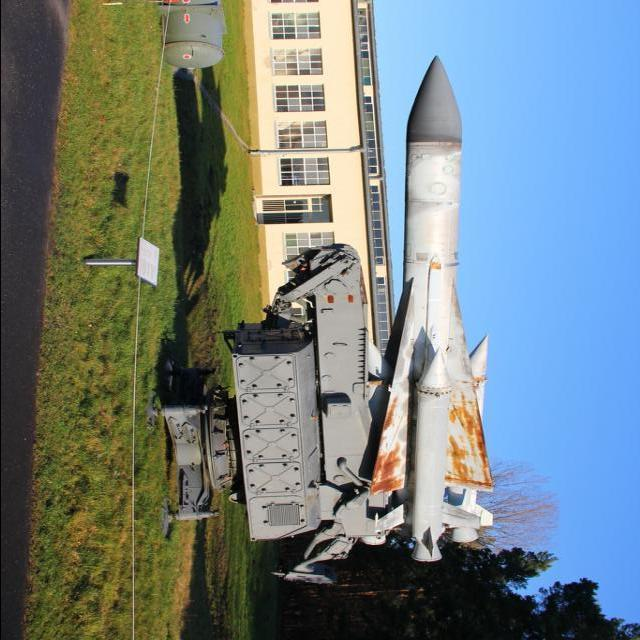Missile: (385, 60, 469, 592), (409, 350, 462, 564)
